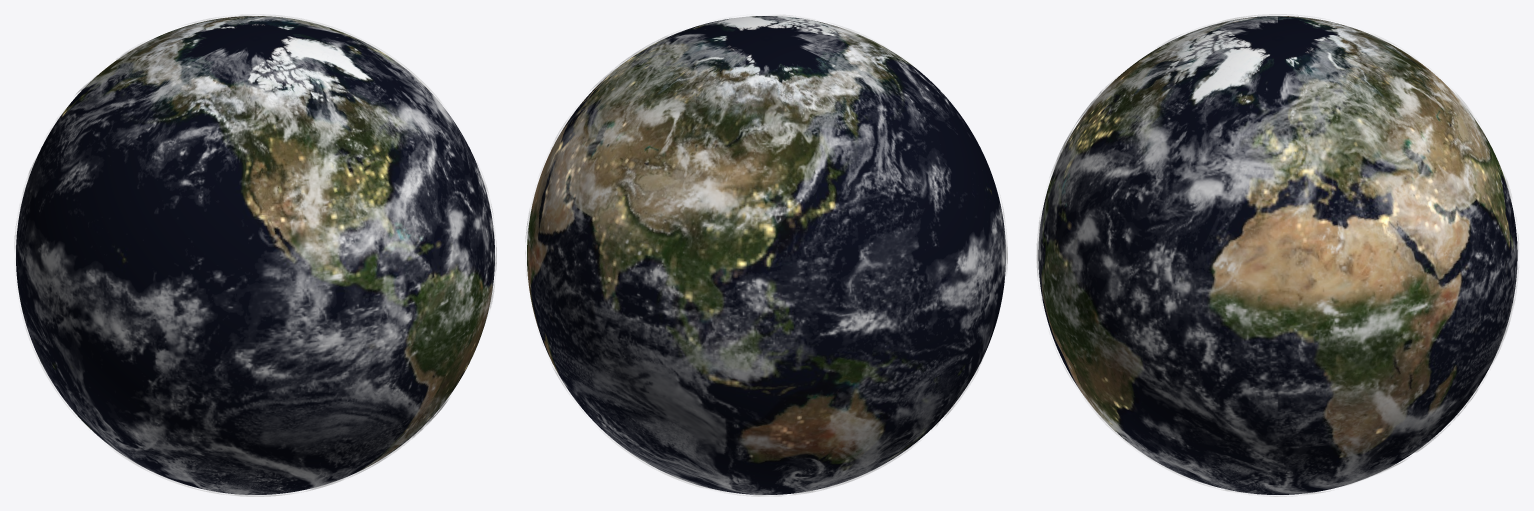
File: terra.glb
The picture shows the model from 3 angles, left to right: view 1: azimuth 30°, elevation 25°; view 2: azimuth 150°, elevation 25°; view 3: azimuth 270°, elevation 25°; orthographic projection.
Parts seen in each view (by area): view 1: Earth, Clouds; view 2: Earth, Clouds; view 3: Earth, Clouds.
Part boxes in pixels (bbox=[...]): Earth: bbox=[16, 16, 494, 494]; Clouds: bbox=[14, 14, 496, 496]; Earth: bbox=[527, 16, 1005, 494]; Clouds: bbox=[525, 14, 1007, 496]; Earth: bbox=[1038, 16, 1517, 494]; Clouds: bbox=[1036, 14, 1518, 496].
Bounding box in the file's own units: 2.02 × 2.02 × 2.02.
Materials: 2 (2 with a texture image).
